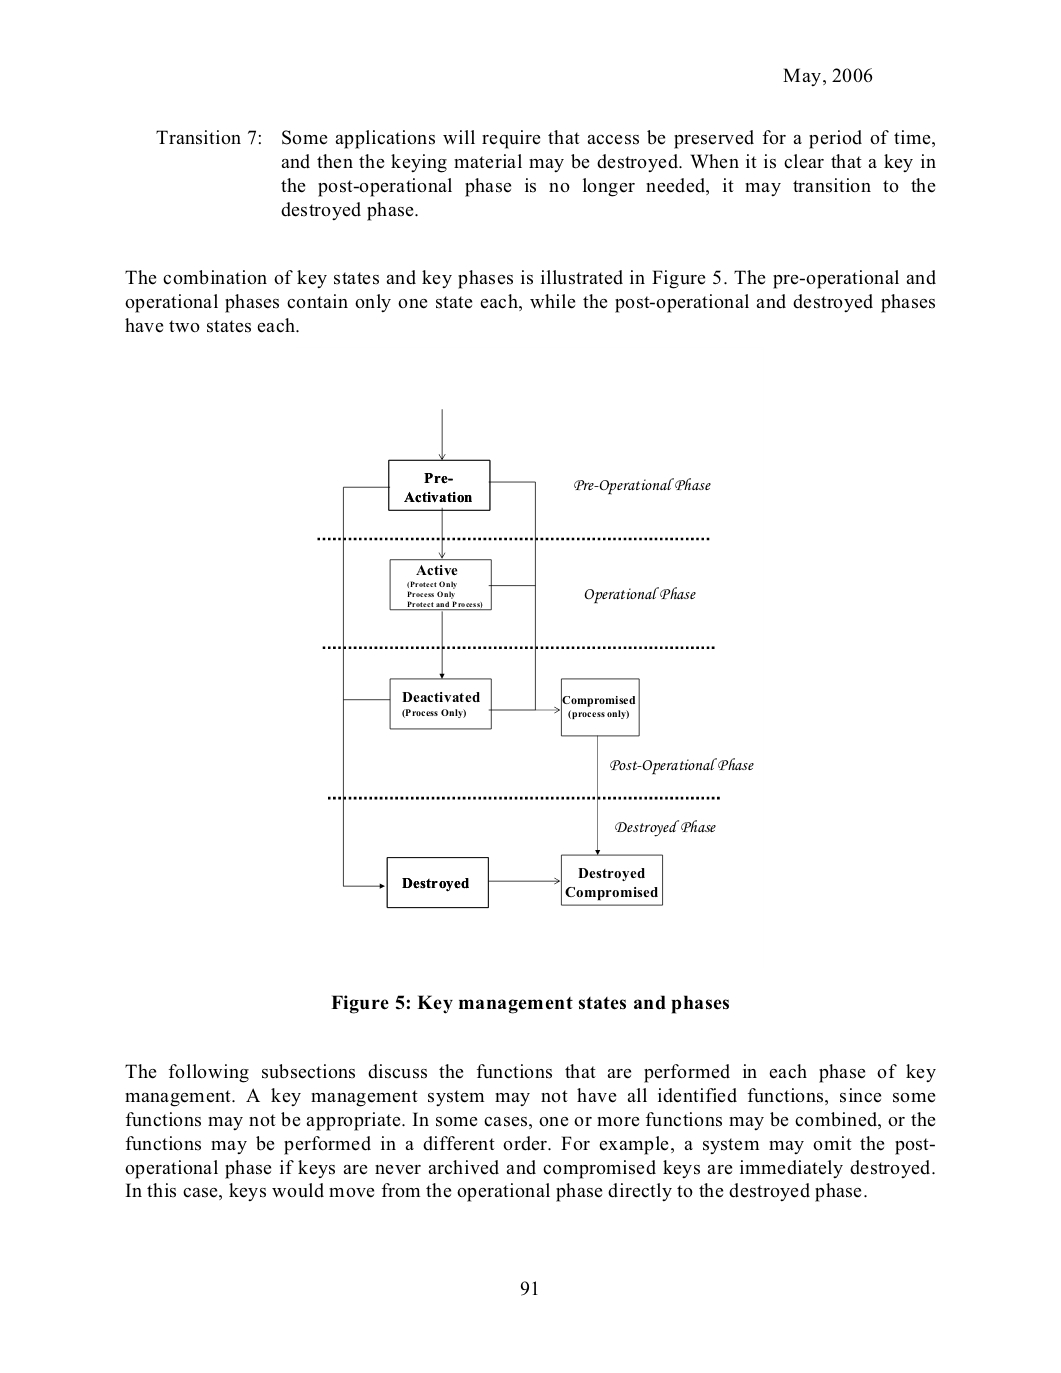figure: (317, 408, 753, 909)
